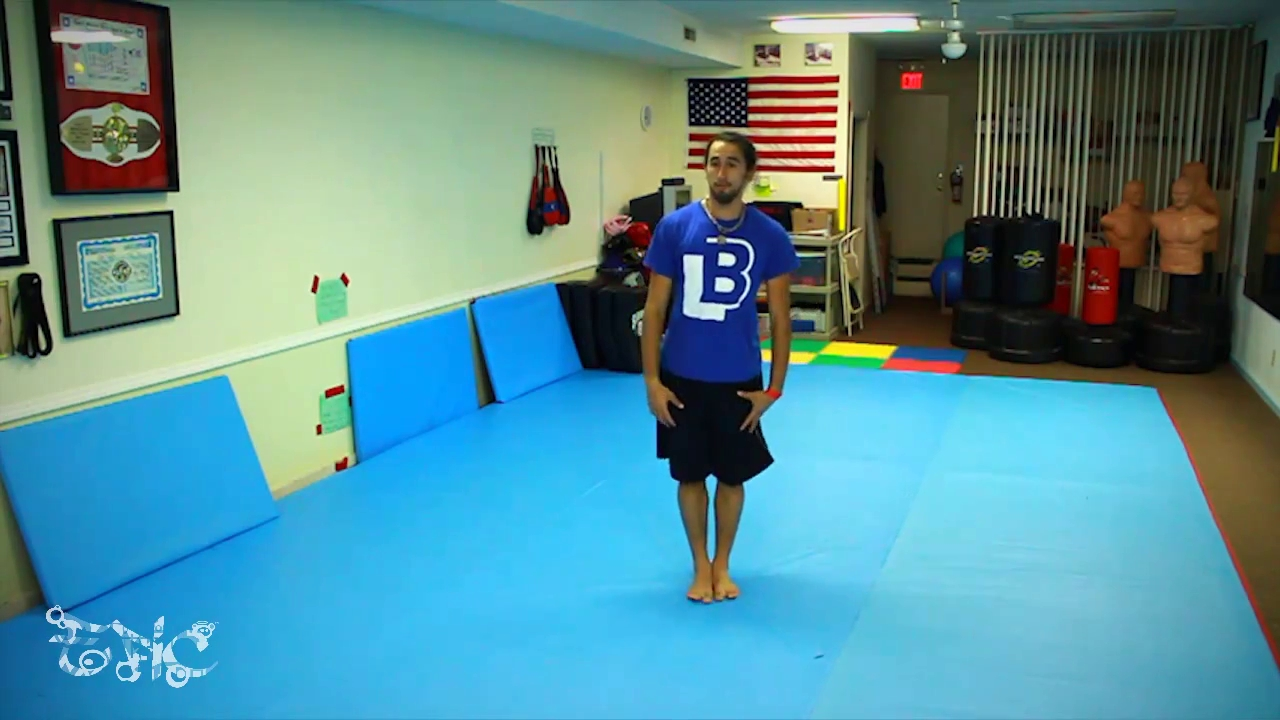person: (641, 132, 800, 605)
